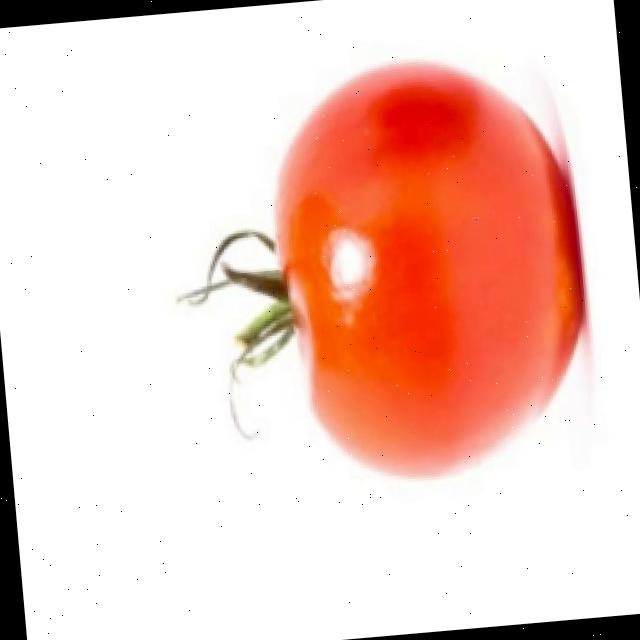tomato: (179, 37, 590, 513)
